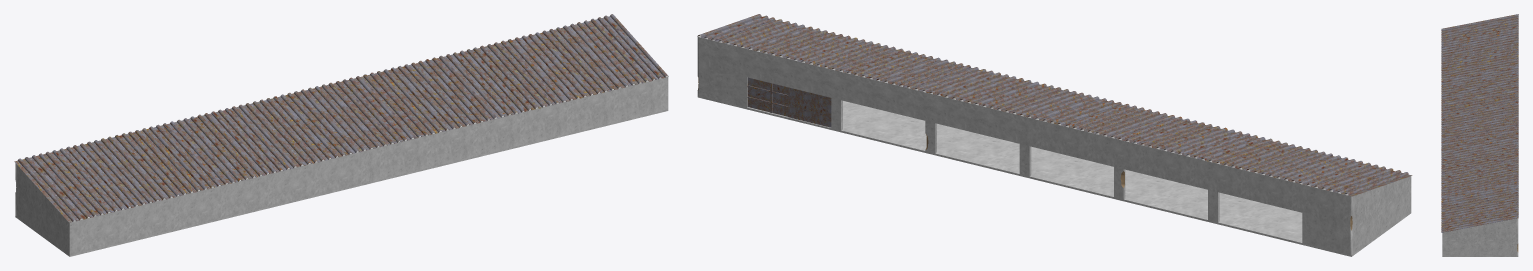
Rendered from Storage_Building_02.FBX.
3 views of the same model, side by side, from view 1: azimuth 30°, elevation 25°; view 2: azimuth 150°, elevation 25°; view 3: azimuth 270°, elevation 25° (orthographic). The views are drawn at different scales.
Visible parts, largest first — view 1: Box110, Box111, Line001, Line043, Line063, Line069, Line019, Line081, Line007, Line015, Line039, Line051 (+77 smaller); view 2: Box110, Box111, Box109, Box107, Line001; view 3: Box110, Line007, Line011, Line019, Line073, Line081, Line001, Line003, Line015, Line027, Line039, Line047 (+77 smaller).
Boxes of the visible parts, x1,y1,x2,y2 form: Box110: [15, 75, 668, 254]; Box111: [15, 109, 668, 256]; Line001: [14, 158, 76, 222]; Line043: [305, 87, 366, 152]; Line063: [443, 54, 504, 118]; Line069: [484, 44, 545, 108]; Line019: [139, 128, 200, 192]; Line081: [567, 23, 628, 88]; Line007: [56, 148, 118, 212]; Line015: [112, 135, 173, 199]; Line039: [277, 94, 338, 158]; Line051: [360, 74, 421, 138]; Box110: [697, 36, 1411, 254]; Box111: [697, 95, 1411, 256]; Box109: [790, 88, 822, 125]; Box107: [757, 80, 789, 117]; Line001: [1344, 172, 1412, 196]; Box110: [1442, 218, 1518, 255]; Line007: [1441, 28, 1518, 45]; Line011: [1441, 37, 1518, 54]; Line019: [1441, 56, 1518, 73]; Line073: [1441, 183, 1518, 200]; Line081: [1441, 202, 1518, 219]; Line001: [1441, 14, 1518, 30]; Line003: [1441, 19, 1518, 35]; Line015: [1441, 47, 1518, 63]; Line027: [1441, 75, 1518, 92]; Line039: [1441, 103, 1518, 120]; Line047: [1441, 122, 1518, 139].
Size of the model in its own units: 2071 by 190 by 332.
Materials: 4 (4 with a texture image).
